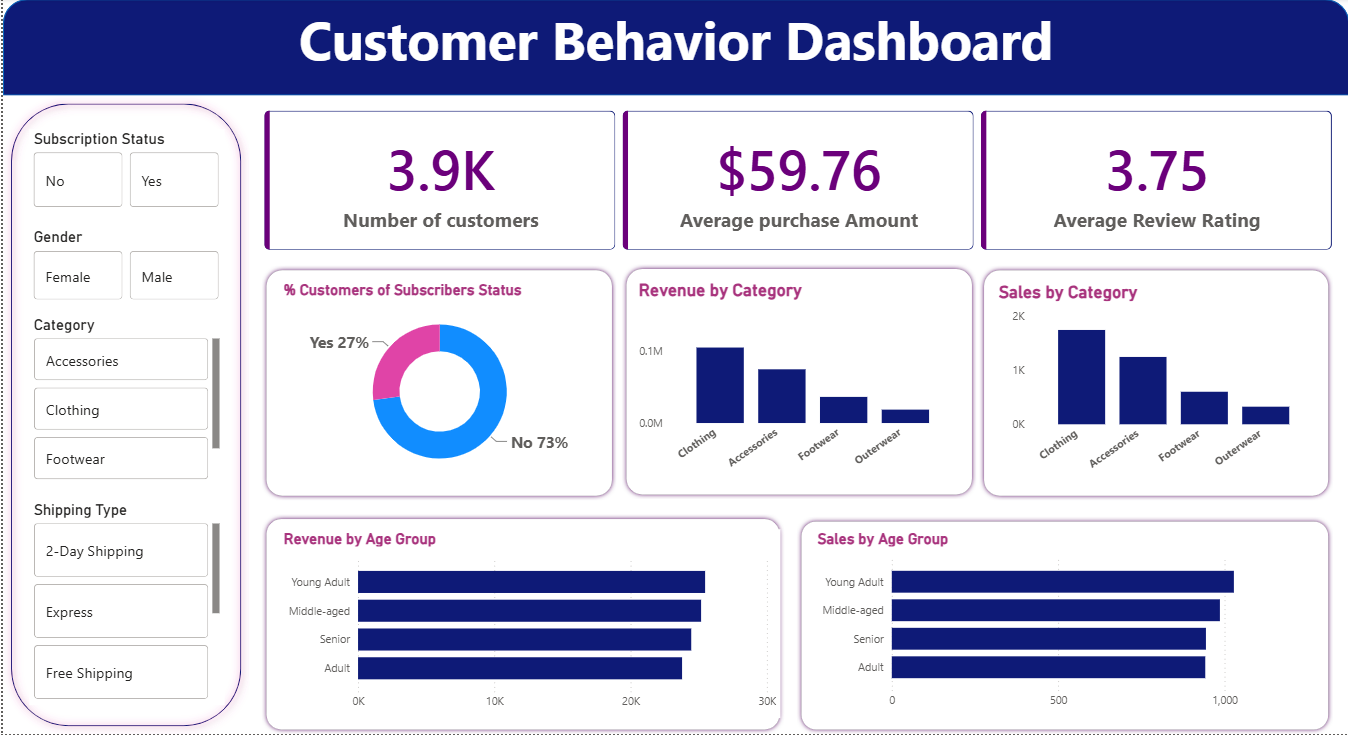

The page's visual inventory and layout, read from the dashboard file:
{"tool":"powerbi","page":{"name":"Page 1","canvas":[1500,820],"ordinal":0},"visuals":[{"type":"cardVisual","fields":{"Data":["public customer.Number of Customers","public customer.Average Purchase Amount","public customer.Average Review Rating"]},"box":[212.9,115.3,1286.5,191.6],"z":2000},{"type":"shape","box":[218.3,585.6,631.7,234.2],"z":2500,"group":"g1"},{"type":"shape","box":[0,0,1499.4,115.3],"z":3000},{"type":"textbox","box":[0,12.4,1499.4,102.9],"z":4000},{"type":"shape","box":[225.4,307,420.5,278.6],"z":5000},{"type":"donutChart","title":"% of Customers by Subscription Status","fields":{"Category":["public customer.subscription_status"],"Y":["CountNonNull(public customer.customer_id)"]},"box":[248.4,331.8,376.2,237.8],"z":6000},{"type":"shape","box":[1078.9,307,420.5,278.6],"z":7000},{"type":"shape","box":[652.1,307,420.5,278.6],"z":8000},{"type":"clusteredColumnChart","title":"Revenue by Category","fields":{"Y":["Sum(public customer.purchase_amount)"],"Category":["public customer.category"]},"box":[667.2,331.8,385.1,237.8],"z":9000},{"type":"clusteredColumnChart","title":"Sales by Category","fields":{"Y":["CountNonNull(public customer.customer_id)"],"Category":["public customer.category"]},"box":[1096.6,331.8,385.1,237.8],"z":10000},{"type":"shape","box":[0,115.3,212.9,704.5],"z":11000},{"type":"advancedSlicerVisual","fields":{"Values":["public customer.subscription_status"]},"box":[19.5,161.5,173.9,85.2],"z":12000},{"type":"advancedSlicerVisual","fields":{"Values":["public customer.gender"]},"box":[19.5,264.4,173.9,85.2],"z":13000},{"type":"advancedSlicerVisual","fields":{"Values":["public customer.category"]},"box":[14.2,358.4,179.2,186.3],"z":14000},{"type":"listSlicer","fields":{"Values":["public customer.shipping_type"]},"box":[19.5,569.6,168.6,220],"z":15000},{"type":"shape","box":[867.7,585.6,631.7,234.2],"z":16000},{"type":"clusteredBarChart","title":"Sales by Age Group","fields":{"Y":["CountNonNull(public customer.customer_id)"],"Category":["public customer.age_group"]},"box":[890.8,601.5,585.6,204.1],"z":17000},{"type":"clusteredBarChart","title":"Revenue by Age Group","fields":{"Y":["Sum(public customer.purchase_amount)"],"Category":["public customer.age_group"]},"box":[241.4,601.6,585.6,204.1],"z":17500,"group":"g1"},{"type":"group","id":"g1","title":"Group 1","box":[218.3,585.6,631.7,234.2],"z":17501}]}

Visuals, with their boxes in screenshot pixels (x1, y1, x2, y2), scaled from the page's 1500x820 canvas onto the 1348x735 screenshot:
cardVisual - public customer.Number of Customers x public customer.Average Purchase Amount: box(191, 103, 1347, 275)
shape: box(196, 525, 764, 734)
shape: box(0, 0, 1347, 103)
textbox: box(0, 11, 1347, 103)
shape: box(203, 275, 580, 525)
"% of Customers by Subscription Status" donutChart: box(223, 297, 561, 511)
shape: box(970, 275, 1347, 525)
shape: box(586, 275, 964, 525)
"Revenue by Category" clusteredColumnChart: box(600, 297, 946, 511)
"Sales by Category" clusteredColumnChart: box(985, 297, 1332, 511)
shape: box(0, 103, 191, 734)
advancedSlicerVisual - public customer.subscription_status: box(18, 145, 174, 221)
advancedSlicerVisual - public customer.gender: box(18, 237, 174, 313)
advancedSlicerVisual - public customer.category: box(13, 321, 174, 488)
listSlicer - public customer.shipping_type: box(18, 511, 169, 708)
shape: box(780, 525, 1347, 734)
"Sales by Age Group" clusteredBarChart: box(801, 539, 1327, 722)
"Revenue by Age Group" clusteredBarChart: box(217, 539, 743, 722)
"Group 1" group: box(196, 525, 764, 734)
